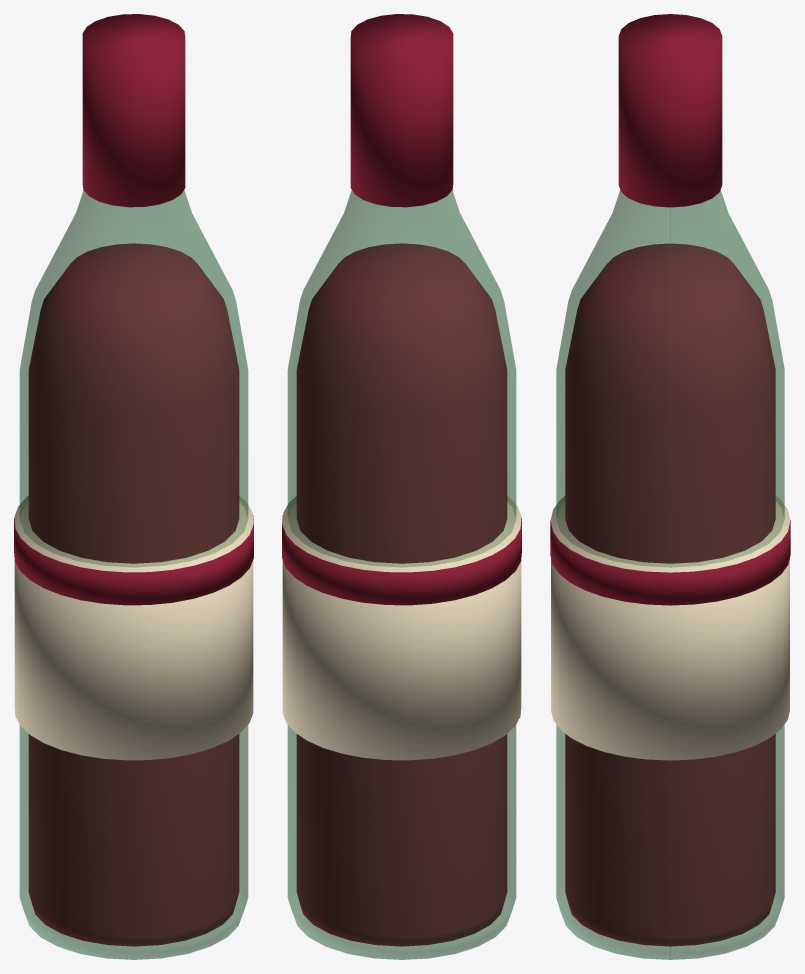
Rendered from kitchen_bottle.glb.
3 views of the same model, side by side, from view 1: azimuth 30°, elevation 25°; view 2: azimuth 150°, elevation 25°; view 3: azimuth 270°, elevation 25° (orthographic).
Visible parts, largest first — view 1: kitchen_bottle; view 2: kitchen_bottle; view 3: kitchen_bottle.
Boxes of the visible parts, left/top/right/bottom form: kitchen_bottle: left=14, top=14, right=253, bottom=959; kitchen_bottle: left=282, top=14, right=521, bottom=959; kitchen_bottle: left=550, top=14, right=790, bottom=959.
Size of the model in its own units: 0.08 by 0.3225 by 0.08.
